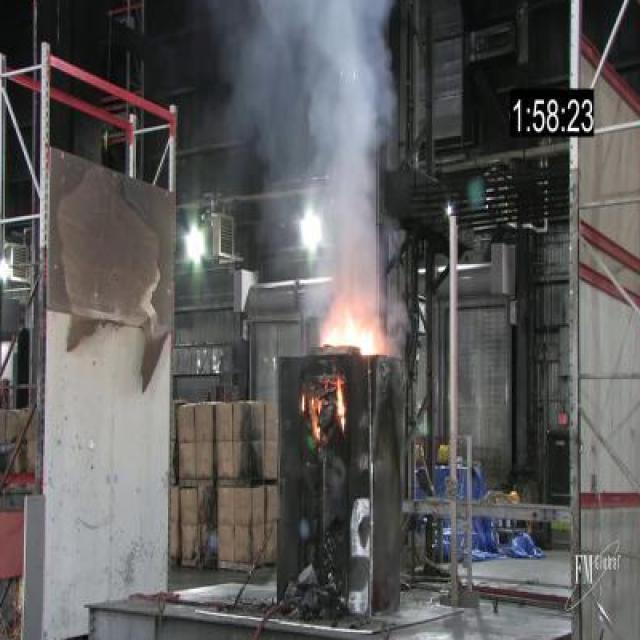fire: (210, 0, 403, 283)
smoke: (299, 371, 354, 448), (316, 307, 383, 358)
